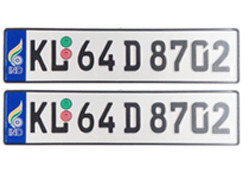number_plate: (3, 89, 240, 146), (4, 27, 240, 84)
